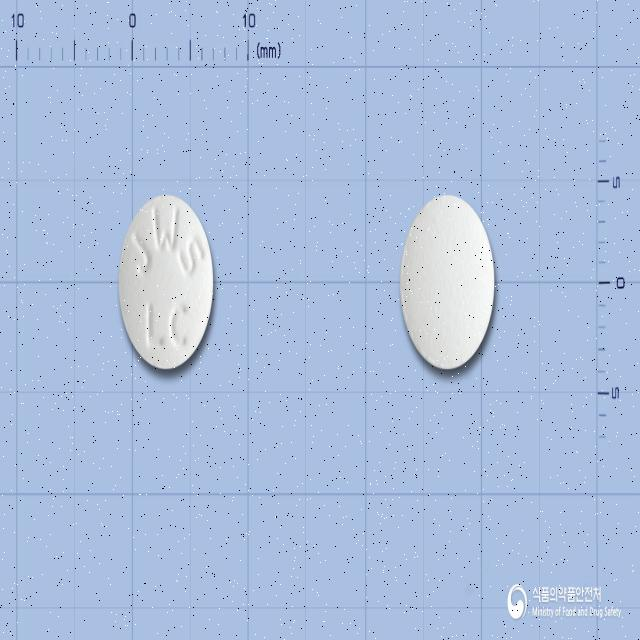Procin Tab: (119, 195, 214, 371), (400, 194, 494, 368)
